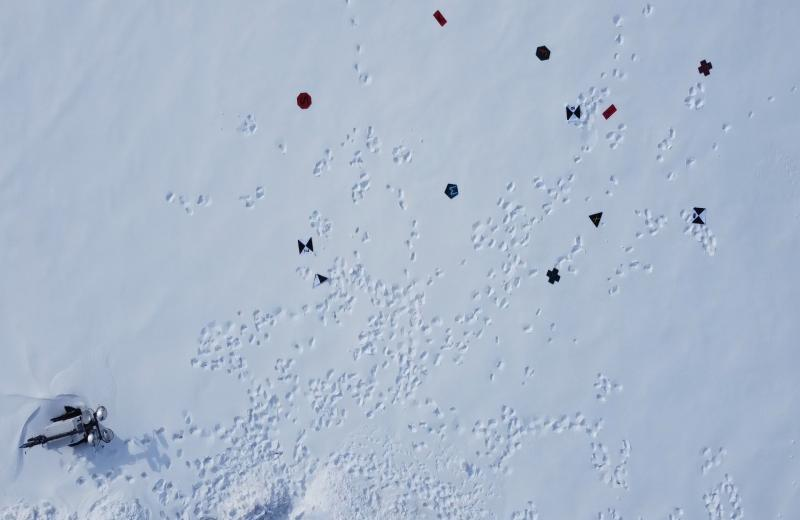Cross: (697, 58, 713, 78), (545, 266, 562, 284)
Hexagon: (534, 45, 552, 61)
Octagon: (296, 92, 312, 110)
Pentagon: (442, 182, 460, 201)
Rectangle: (431, 9, 448, 28), (602, 104, 618, 120)
Triangle: (587, 212, 604, 229)
